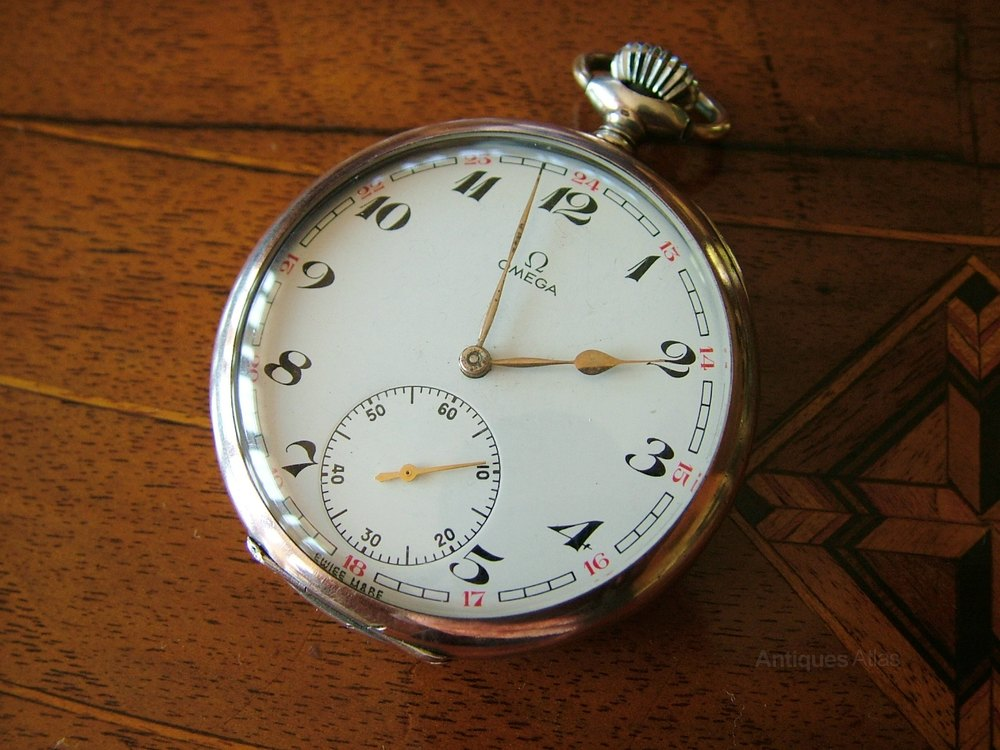clock: (249, 132, 740, 626)
